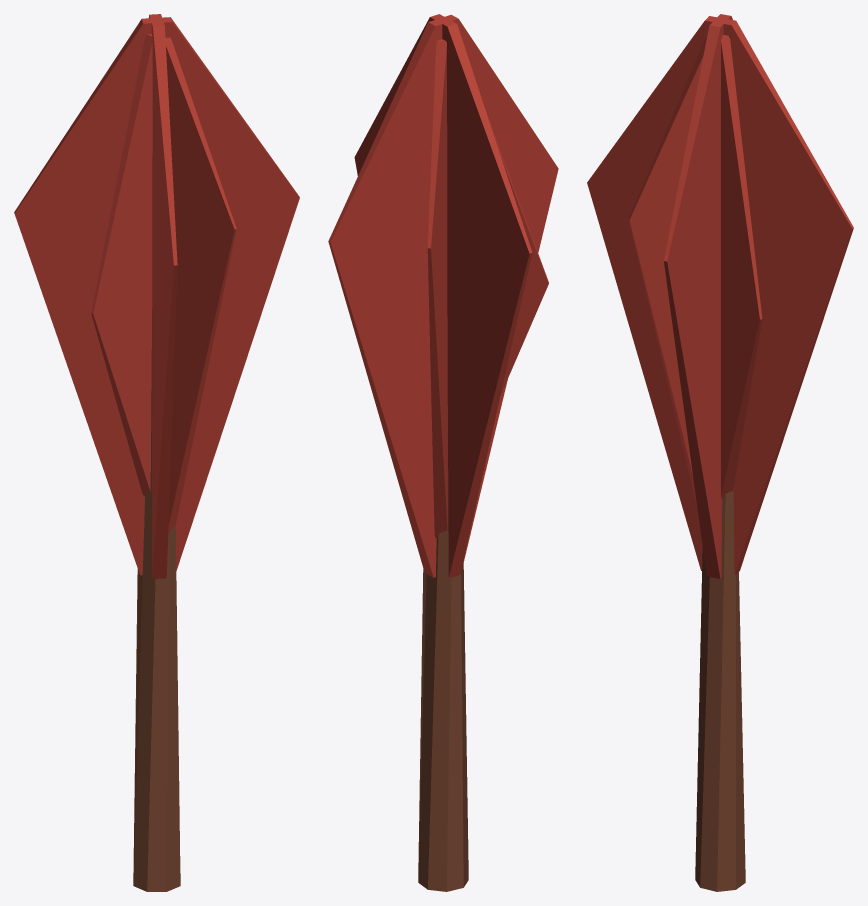
File: Tree_31_summer_red_vc.fbx
The picture shows the model from 3 angles, left to right: view 1: azimuth 30°, elevation 25°; view 2: azimuth 150°, elevation 25°; view 3: azimuth 270°, elevation 25°; orthographic projection.
Parts seen in each view (by area): view 1: Tree_31_summer_red_vc; view 2: Tree_31_summer_red_vc; view 3: Tree_31_summer_red_vc.
Boxes of the visible parts, x1=… form: Tree_31_summer_red_vc: x1=14, y1=14, x2=299, y2=891; Tree_31_summer_red_vc: x1=328, y1=14, x2=558, y2=891; Tree_31_summer_red_vc: x1=587, y1=14, x2=853, y2=891.
Size of the model in its own units: 84.61 by 301 by 84.61.
